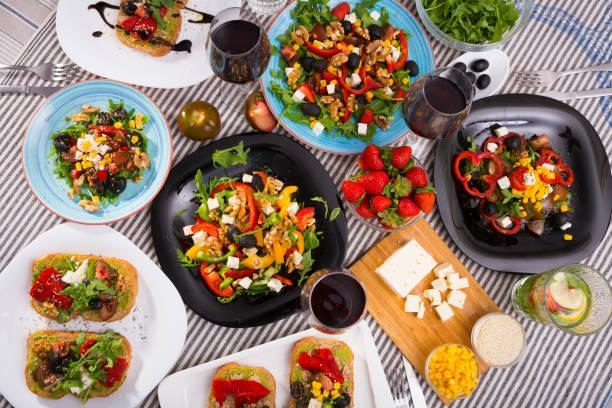Braised Crucian Carp: (150, 131, 345, 325), (1, 220, 191, 408), (432, 96, 609, 271), (258, 0, 430, 156), (20, 79, 172, 225), (157, 324, 399, 408), (55, 0, 238, 89)
